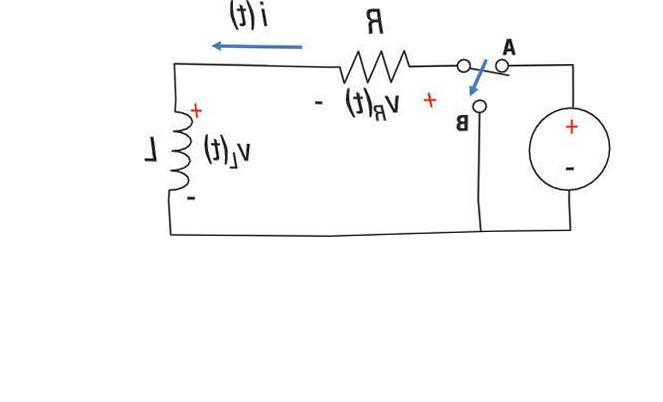Battery: (506, 99, 627, 197)
